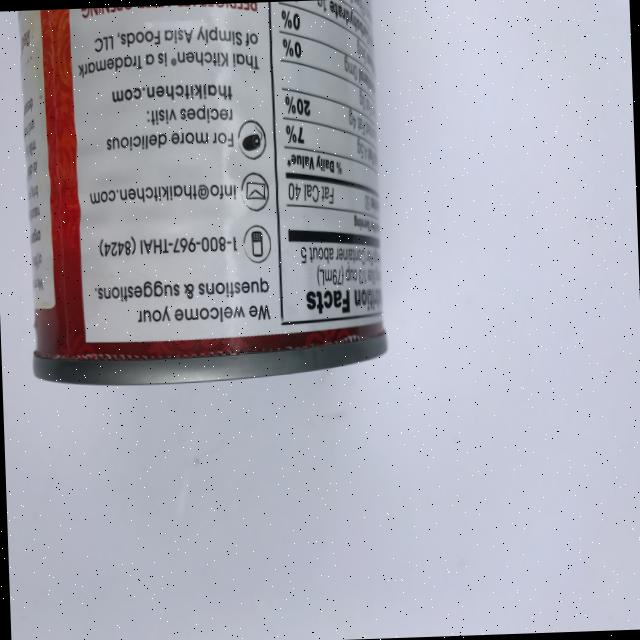metal: (17, 0, 389, 388)
